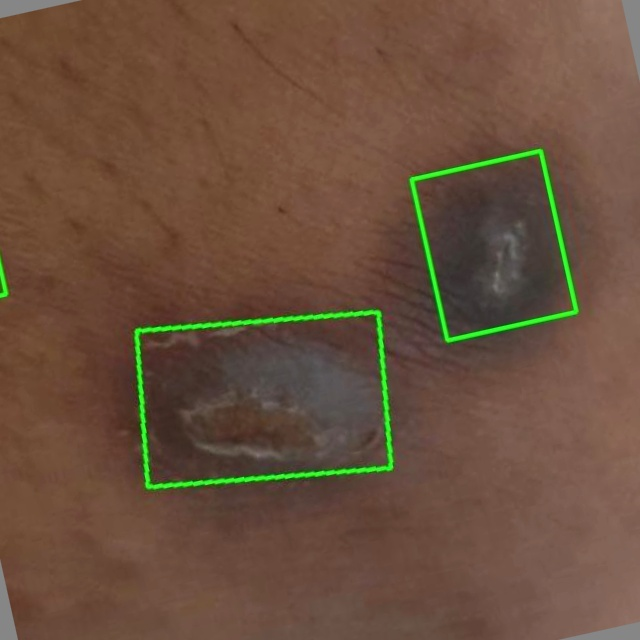Contact Dermatitis: (137, 312, 391, 488), (411, 150, 576, 340)
